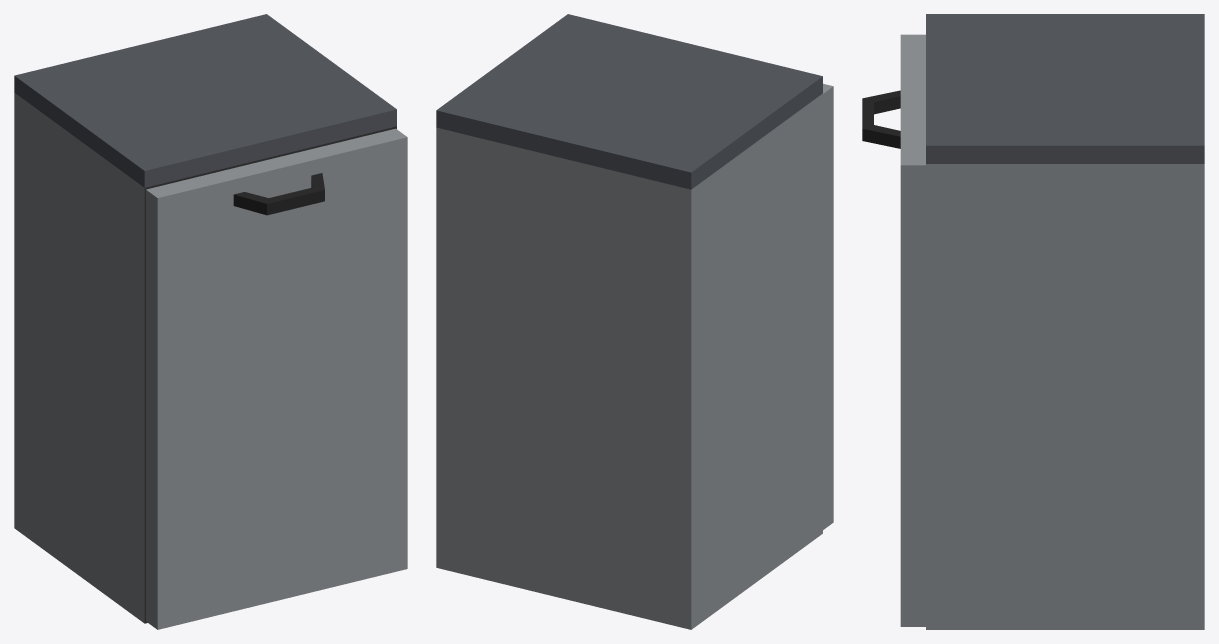
The model's file is Kitchen_Cabinet_1C.fbx.
The picture shows the model from 3 angles, left to right: view 1: azimuth 30°, elevation 25°; view 2: azimuth 150°, elevation 25°; view 3: azimuth 270°, elevation 25°; orthographic projection. The views are drawn at different scales.
Parts seen in each view (by area): view 1: polySurface1780; view 2: polySurface1780; view 3: polySurface1780.
Part boxes in pixels (x1,y1,x2,y2): polySurface1780: (14,14,407,629); polySurface1780: (436,14,833,629); polySurface1780: (862,14,1204,629).
Size of the model in its own units: 0.7792 by 1.34 by 0.8565.
Materials: 1 (1 with a texture image).
